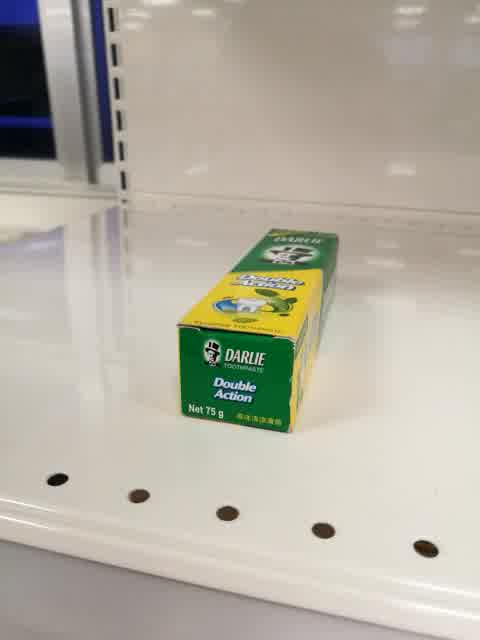toothpaste: (176, 226, 342, 438)
